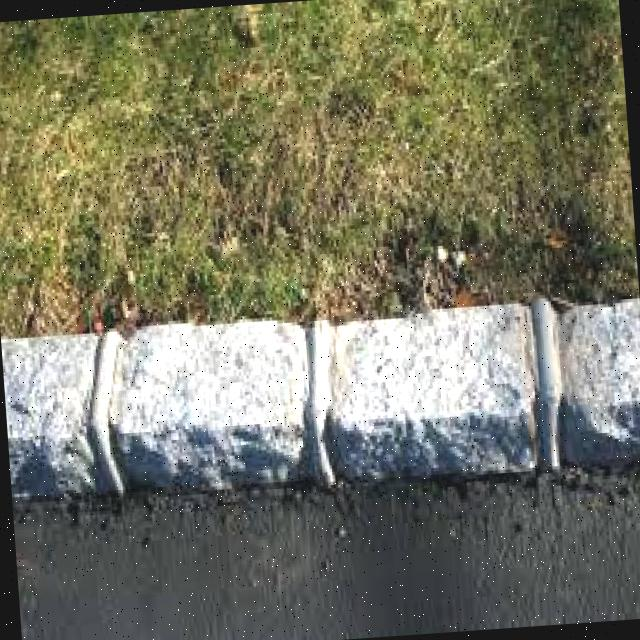curb: (1, 291, 640, 508)
